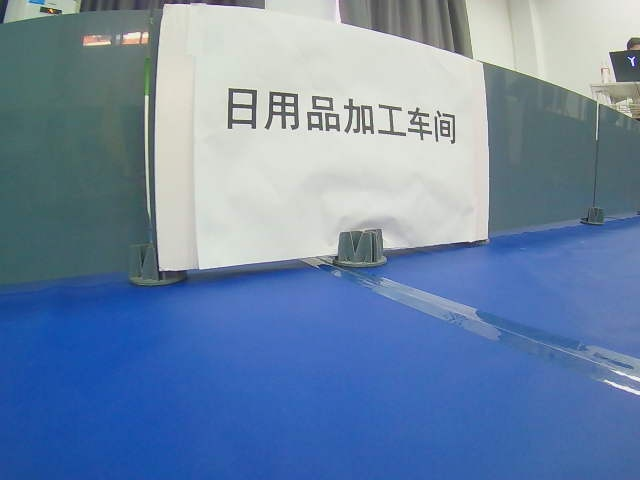target: (225, 84, 456, 146)
